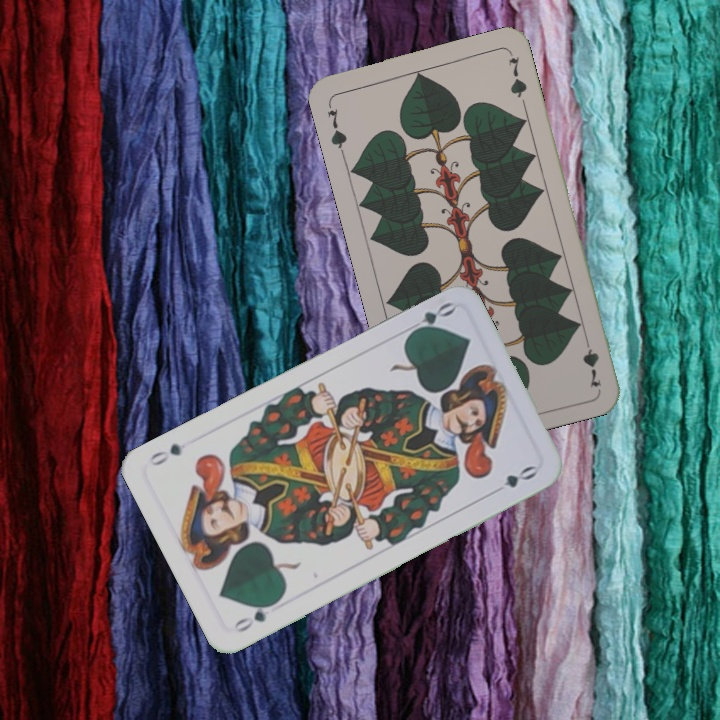G7: (323, 99, 350, 157), (578, 331, 604, 390)
GO: (401, 298, 457, 339), (229, 596, 281, 635)
